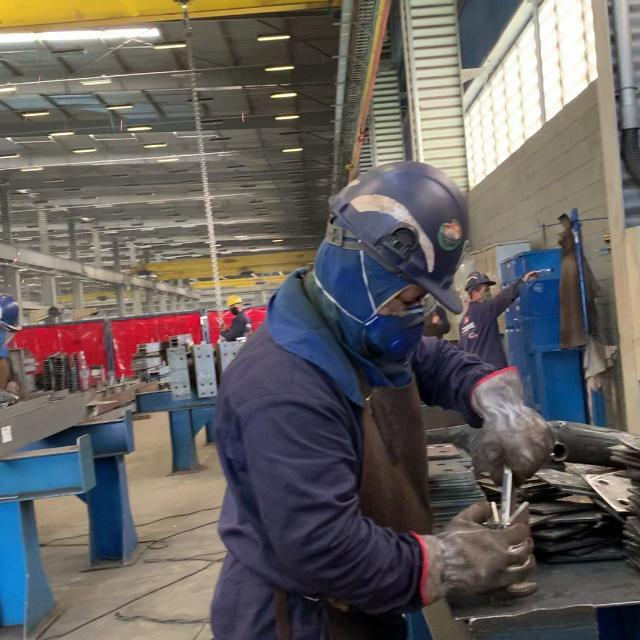eye-glass: (359, 247, 438, 330)
face-shield: (413, 501, 543, 607), (469, 365, 552, 491), (458, 268, 540, 356)
glove: (325, 159, 467, 317)
helmet: (363, 315, 424, 356), (482, 290, 493, 299)
mask: (213, 159, 553, 634)
